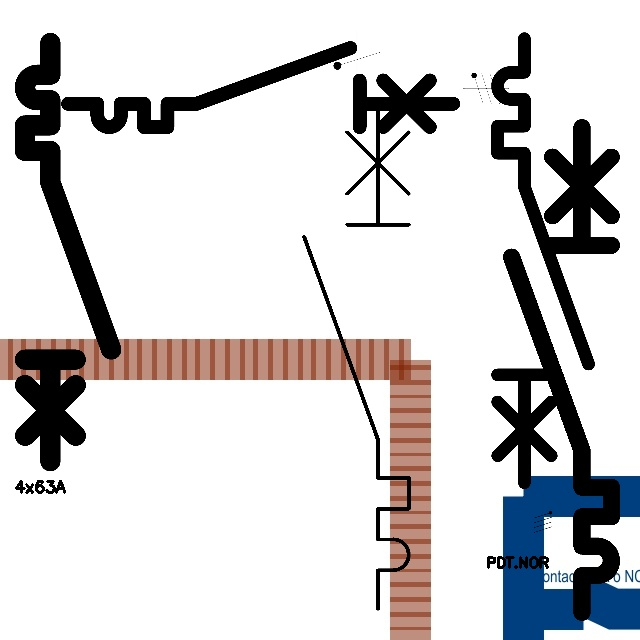interruptor_termomagnetico: (291, 88, 422, 621), (499, 115, 624, 625), (486, 27, 600, 494), (14, 32, 121, 472), (58, 38, 463, 137)
